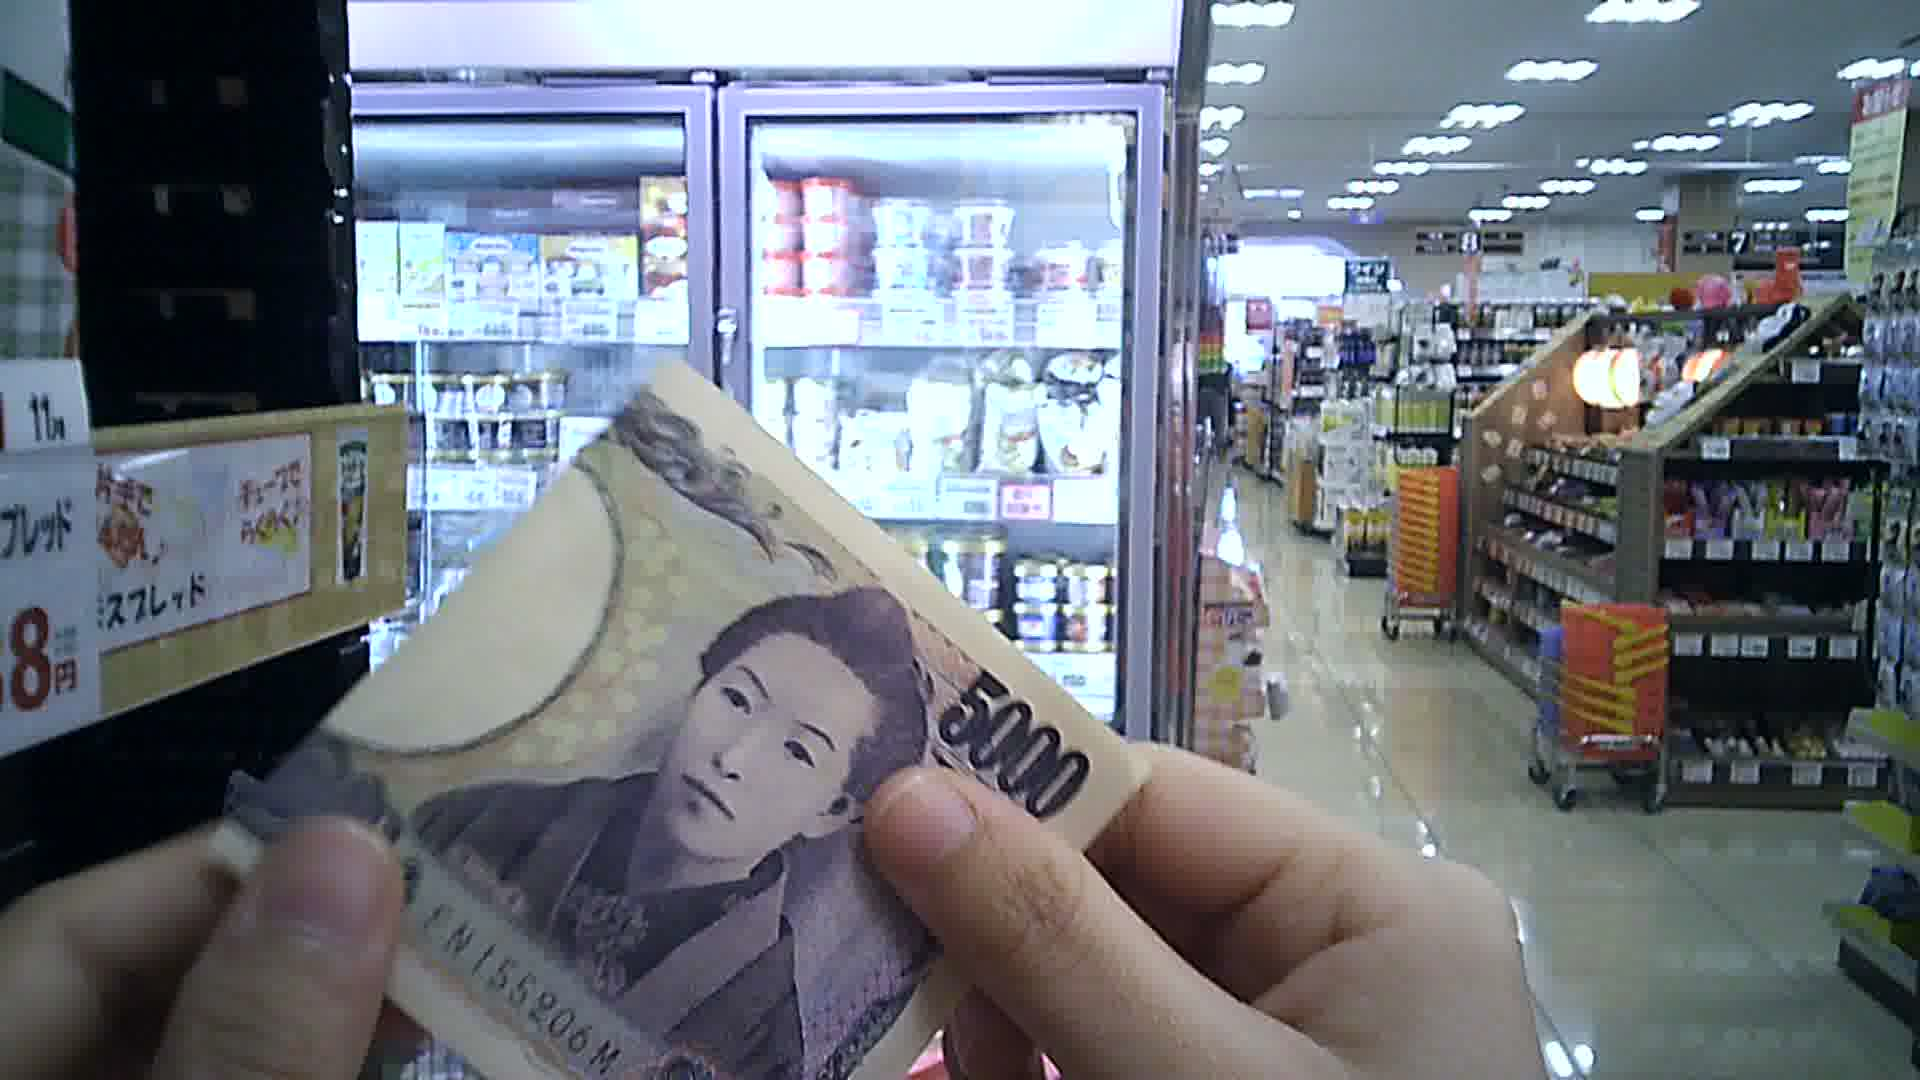5,000 Yen: (206, 351, 1134, 1069)
